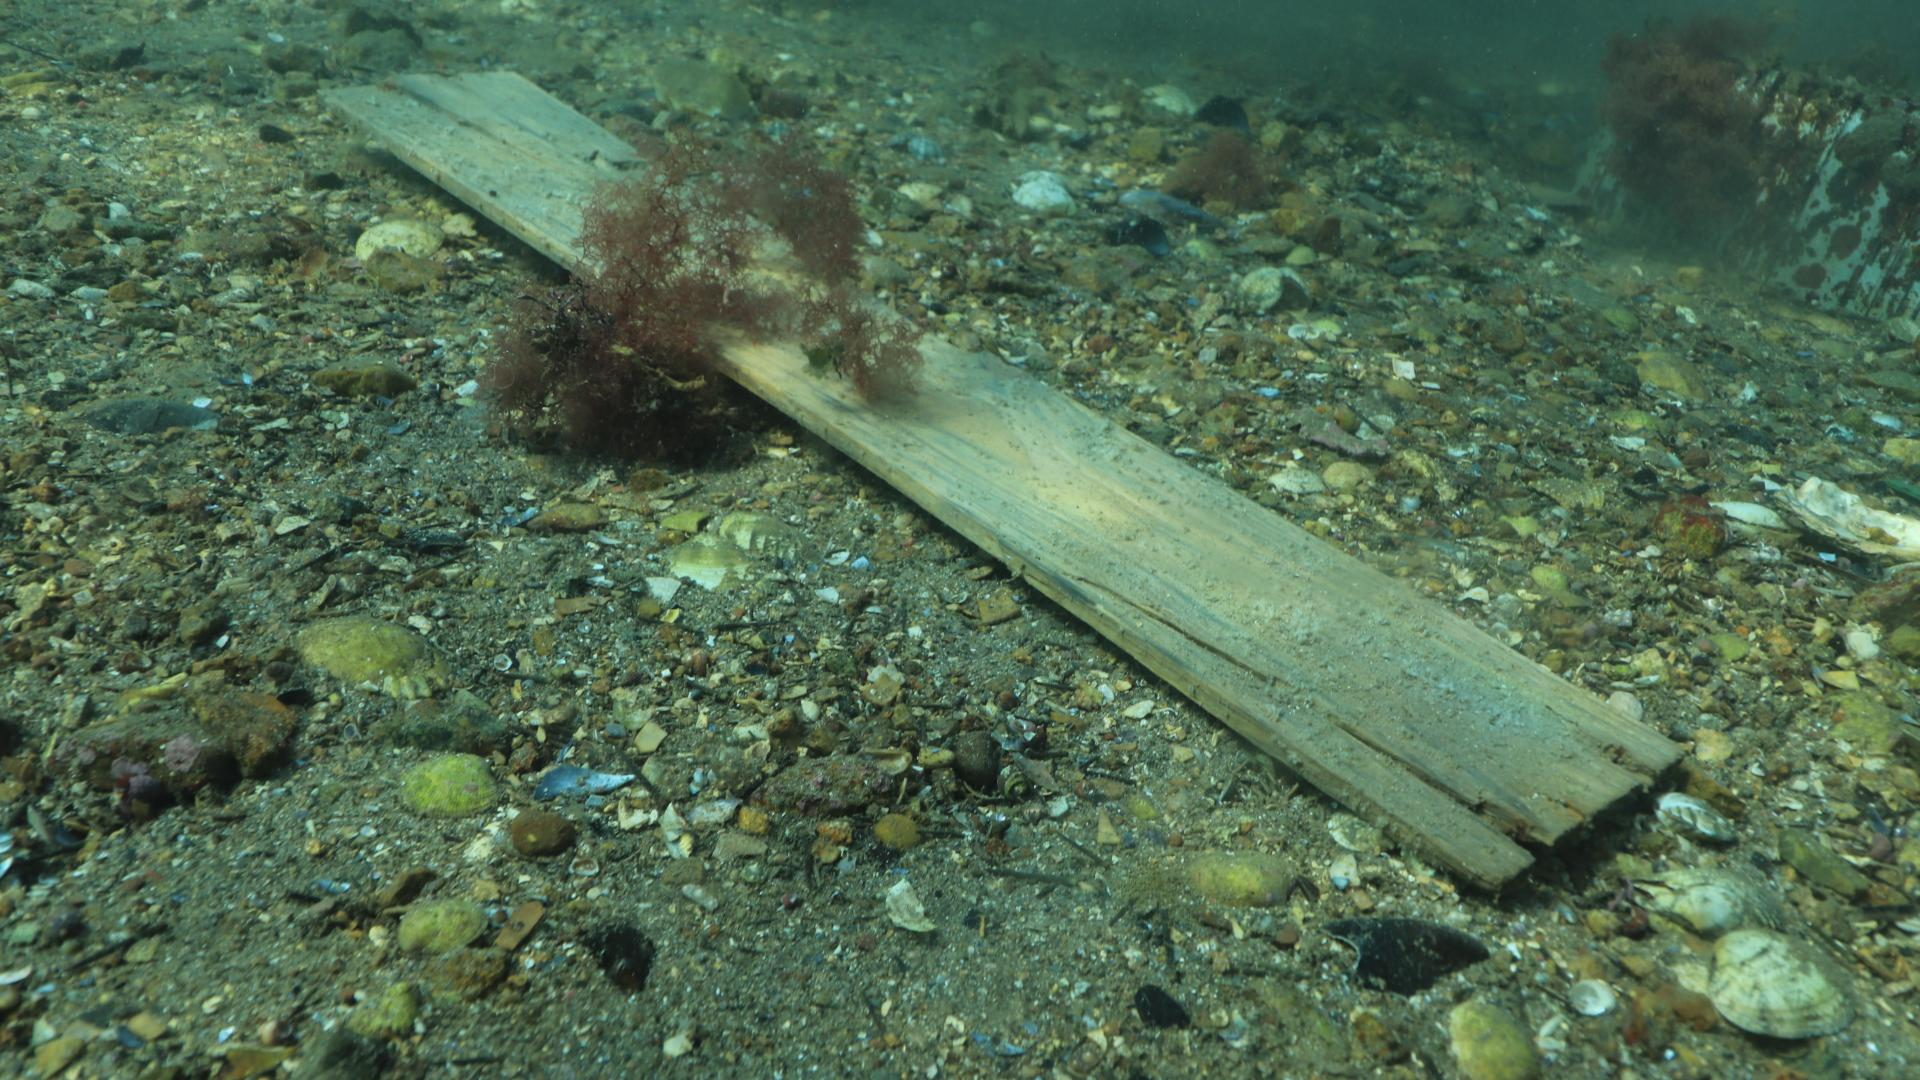wood: (313, 67, 1700, 901)
